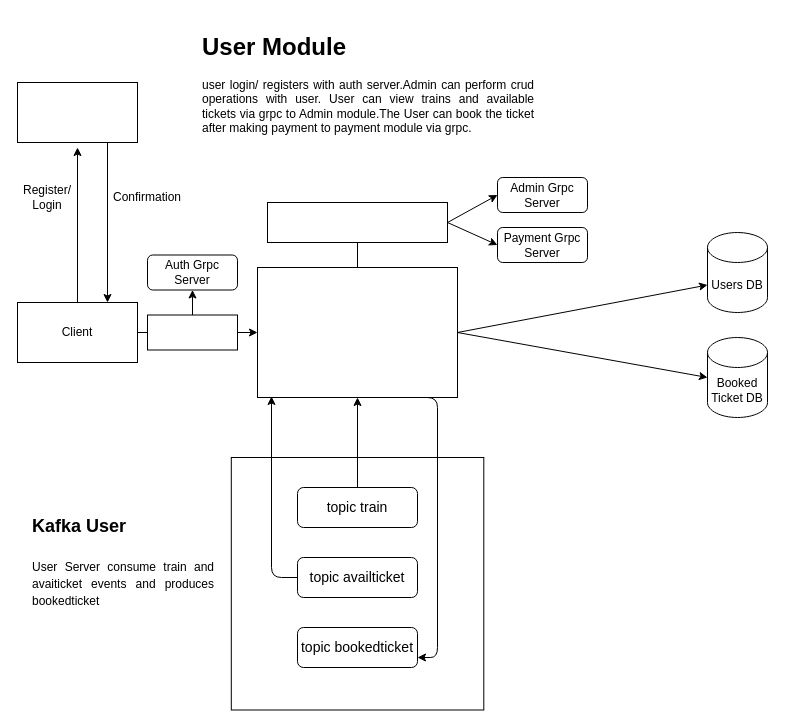
Image size: 785x727. Some labels were removed from this diagram. The shapes that lost their labels are listed below. From the top down, each one's box as (x1, y1, x2, y2) in pixels, then its label:
(16, 82, 138, 142): Auth Server
(266, 202, 448, 242): User Grpc client
(146, 314, 238, 350): auth grpc client
(256, 266, 458, 398): User Server
